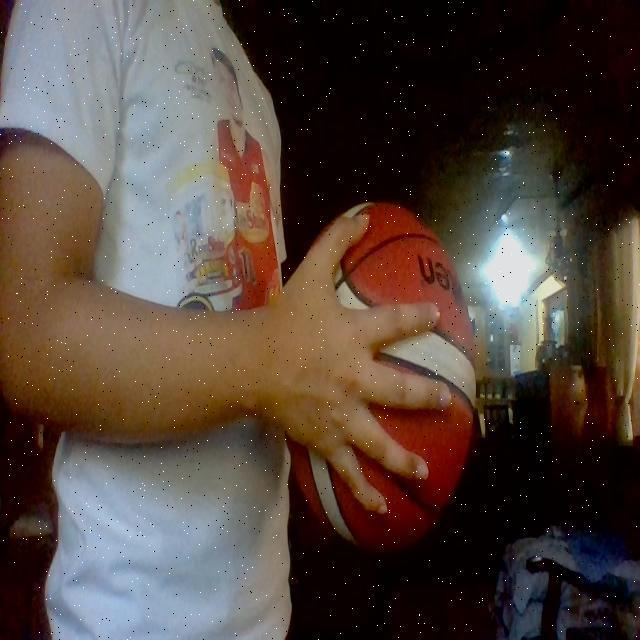ball: (286, 204, 478, 549)
